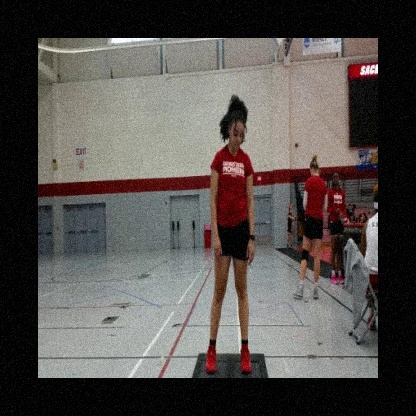lateral_flexion_left: (204, 94, 256, 378)
stance_width_normal: (204, 141, 257, 378)
